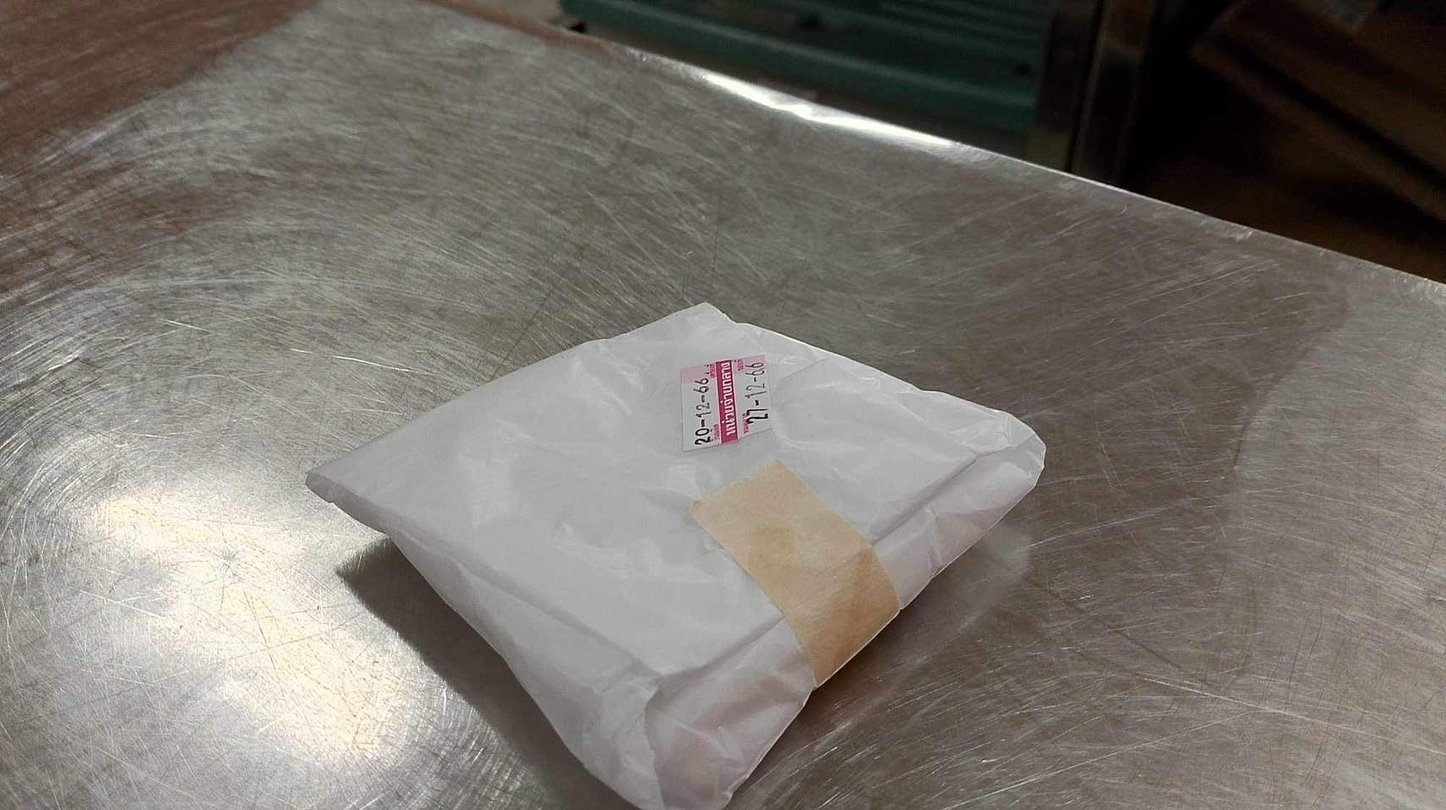General: (302, 298, 1049, 807), (676, 353, 775, 455)
